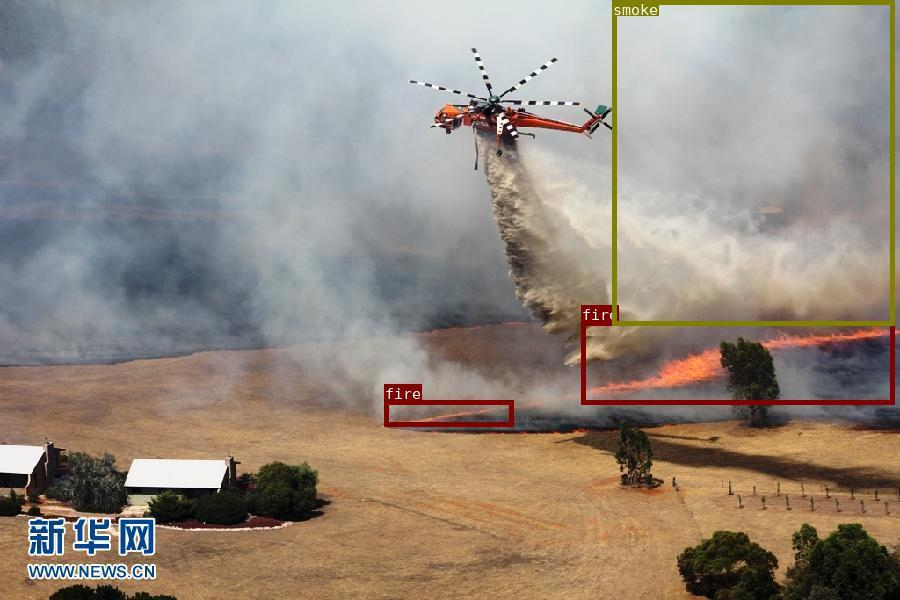fire: (581, 321, 894, 404), (384, 399, 512, 426)
smoke: (611, 0, 894, 325)
